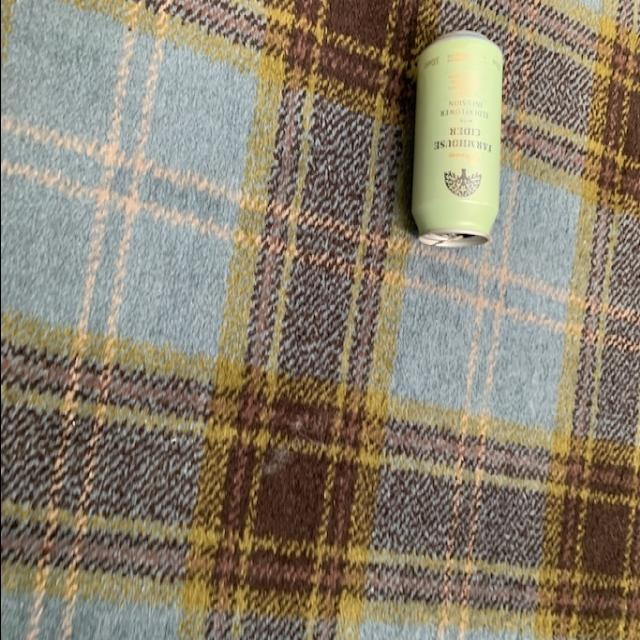litter: (407, 22, 508, 282)
